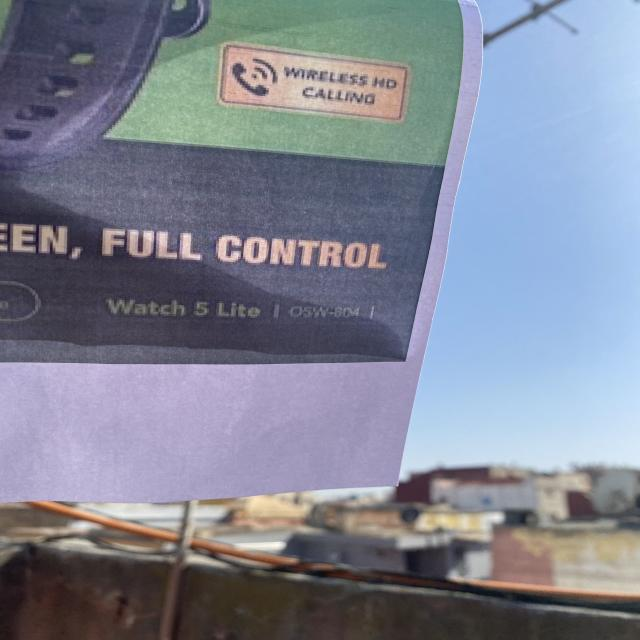Watch 5 Lite OSW-804: (89, 287, 382, 331)
